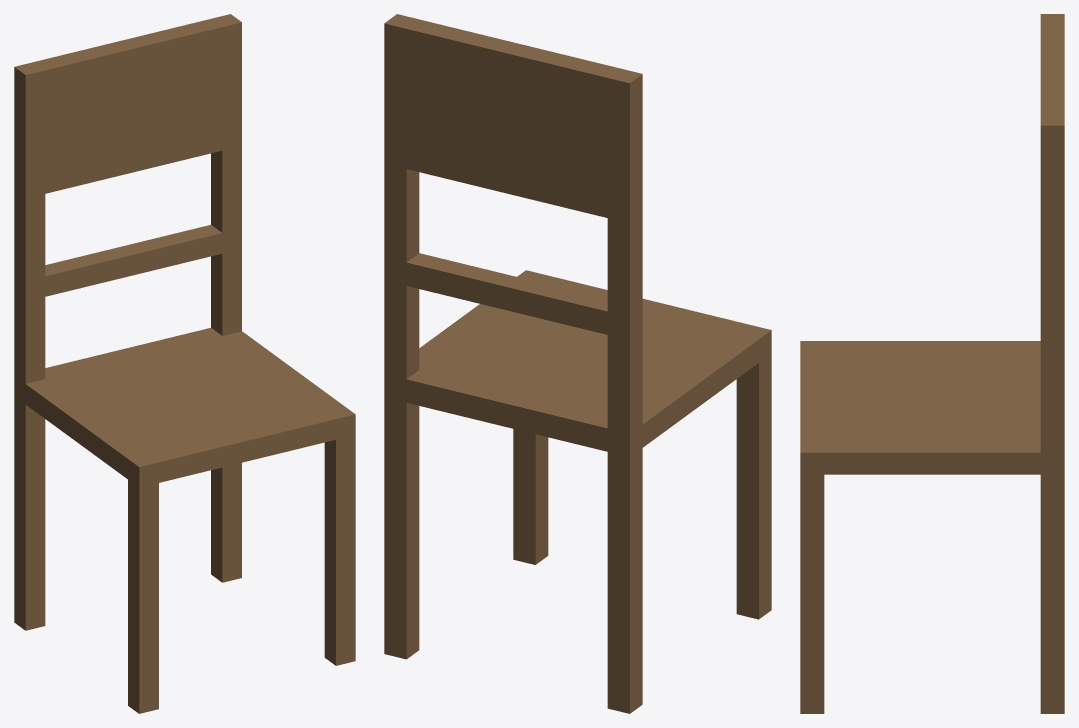
Rendered from cadeira1Castanha.fbx.
The picture shows the model from 3 angles, left to right: view 1: azimuth 30°, elevation 25°; view 2: azimuth 150°, elevation 25°; view 3: azimuth 270°, elevation 25°; orthographic projection. The views are drawn at different scales.
Visible parts, largest first — view 1: Cube.007; view 2: Cube.007; view 3: Cube.007.
Part boxes in pixels (box(x1,y1,x2,y2)): Cube.007: box(14, 14, 355, 713); Cube.007: box(384, 14, 771, 713); Cube.007: box(800, 14, 1064, 713).
Size of the model in its own units: 220 by 540 by 220.
